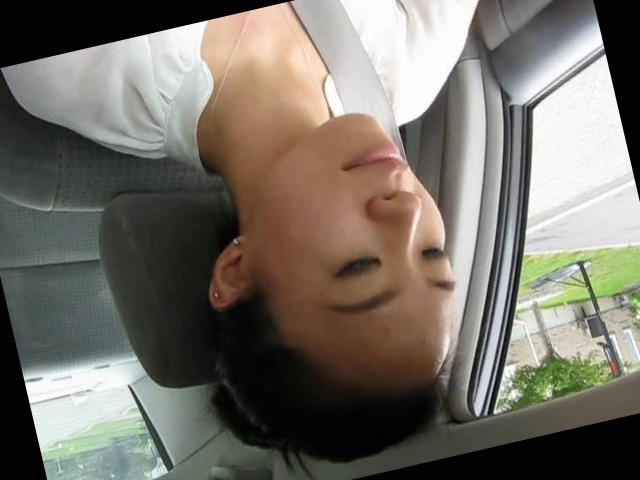eye_closed: (321, 239, 394, 292), (414, 234, 454, 268)
face: (238, 95, 474, 352)
